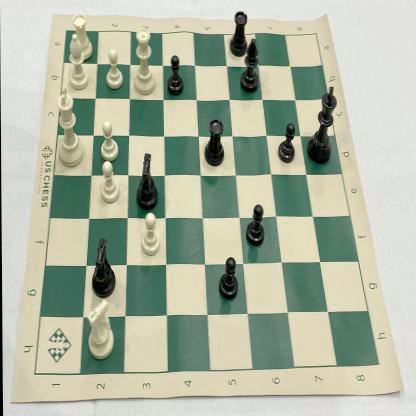black-bishop: (238, 38, 263, 96)
black-king: (304, 82, 340, 166)
black-knight: (87, 232, 119, 300), (133, 148, 161, 216)
black-pawn: (217, 251, 242, 304), (242, 198, 266, 252), (276, 118, 298, 166), (164, 53, 185, 101)
black-rook: (202, 114, 229, 172), (226, 5, 250, 60)
white-bishop: (64, 33, 91, 91)
white-king: (53, 84, 86, 170)
white-knight: (82, 296, 118, 366)
white-pawn: (102, 43, 128, 94), (97, 158, 122, 208), (138, 211, 164, 259), (98, 117, 122, 164)
white-queen: (130, 24, 160, 100)
white-rook: (69, 11, 96, 64)
